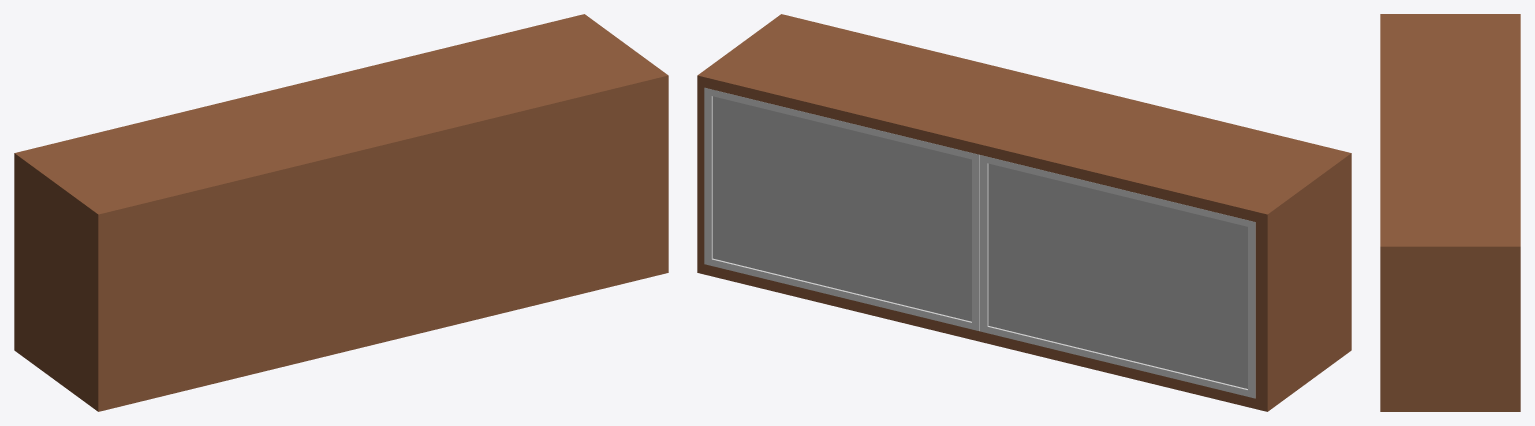
The model's file is Rak Transparant Interact.fbx.
3 renders of one model, left to right at view 1: azimuth 30°, elevation 25°; view 2: azimuth 150°, elevation 25°; view 3: azimuth 270°, elevation 25°, orthographic. The views are drawn at different scales.
Parts seen in each view (by area): view 1: Cube.005; view 2: Cube.005, Cube.006, Cube.007; view 3: Cube.005.
Part boxes in pixels (x1,y1,x2,y2): Cube.005: (14,14,668,411); Cube.005: (697,14,1351,411); Cube.006: (704,87,979,331); Cube.007: (980,155,1255,398); Cube.005: (1380,14,1520,411).
Size of the model in its own units: 301 by 99.46 by 76.75.
Materials: 3 (1 with a texture image).
